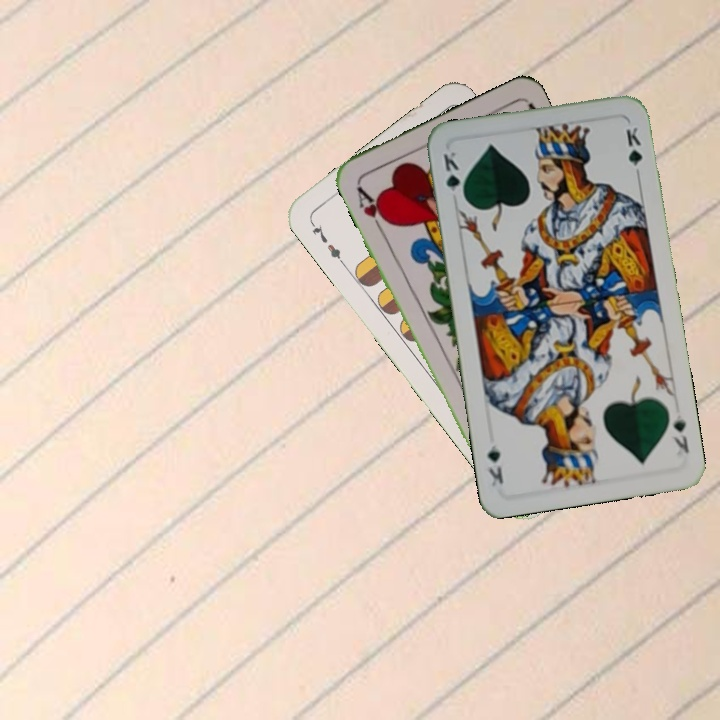E7: (306, 217, 347, 268)
GK: (439, 147, 467, 203), (669, 411, 692, 456)
HA: (352, 182, 393, 236)
